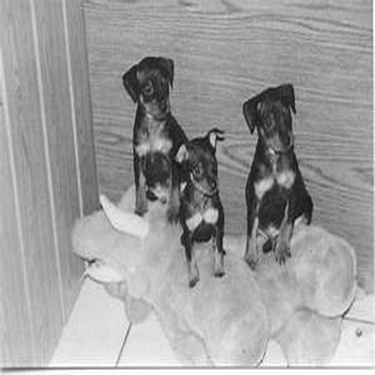dog: (222, 68, 322, 275), (103, 50, 197, 225), (158, 115, 235, 292)
